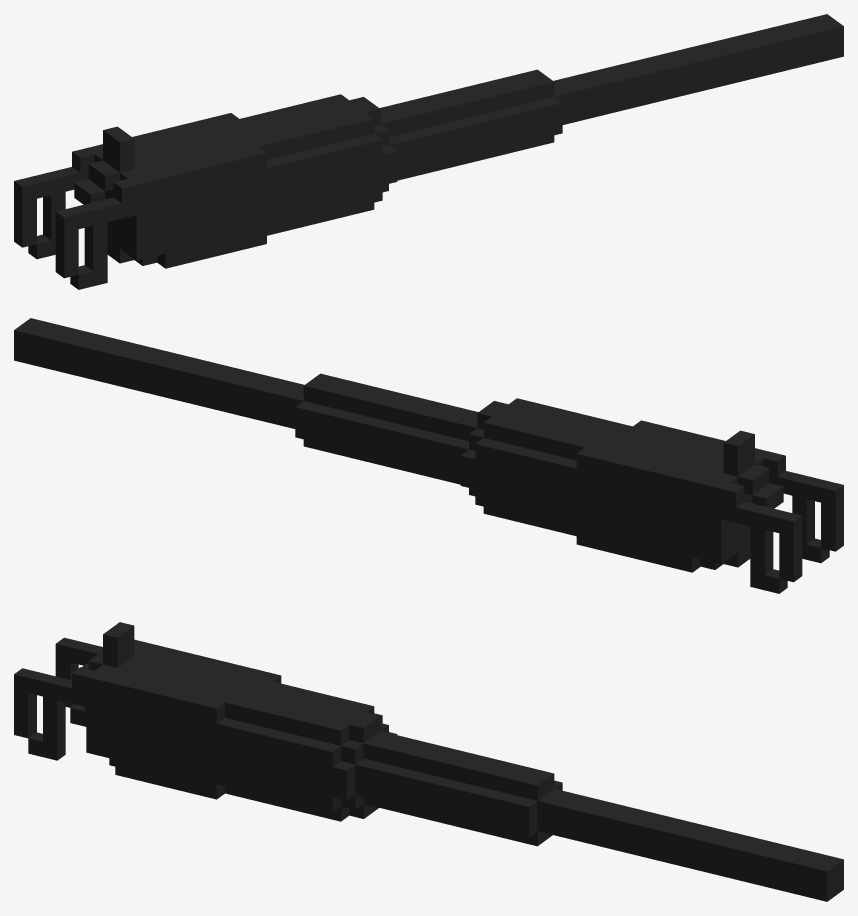
Rendered from mitrailleuse_50cal.vox.obj.
3 views of the same model, one above another, from view 1: azimuth 30°, elevation 25°; view 2: azimuth 150°, elevation 25°; view 3: azimuth 330°, elevation 25° (orthographic).
Bounding box in the file's own units: 5.5 × 0.8 × 0.6.
1 material, 1 textured.
